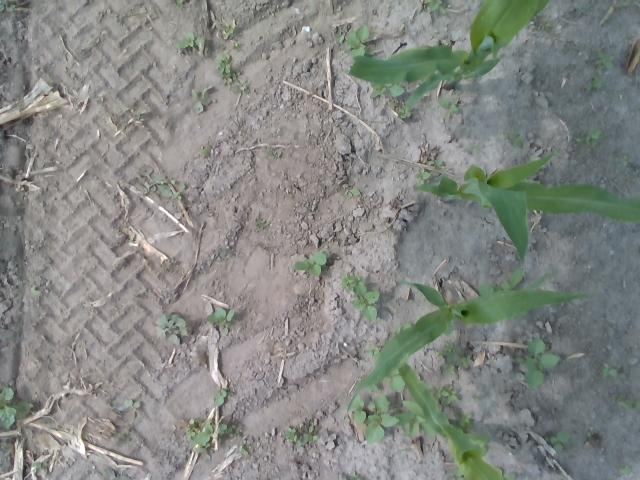Maize: (344, 272, 597, 423), (410, 148, 636, 260), (348, 0, 552, 111), (399, 360, 508, 480)
Weeds: (349, 394, 398, 445), (514, 337, 560, 390), (185, 418, 240, 454), (394, 398, 441, 438), (342, 273, 379, 322), (138, 163, 186, 200), (214, 52, 250, 93), (476, 268, 525, 297), (336, 23, 374, 58), (0, 387, 32, 428), (154, 310, 188, 346), (436, 342, 472, 374), (203, 307, 236, 336), (292, 250, 326, 276), (283, 423, 318, 446), (415, 159, 447, 184), (379, 366, 406, 393), (425, 384, 459, 404), (574, 126, 604, 148), (369, 81, 405, 99), (449, 410, 476, 434), (190, 84, 210, 114), (545, 430, 570, 453), (436, 96, 459, 120), (176, 31, 204, 50), (614, 393, 640, 410), (594, 51, 614, 71), (103, 467, 130, 480), (364, 344, 382, 363), (504, 131, 524, 148), (494, 466, 516, 480), (425, 0, 446, 14), (212, 388, 228, 406), (0, 0, 20, 14), (391, 324, 412, 336), (539, 16, 554, 32), (601, 363, 617, 378), (445, 466, 462, 480), (586, 76, 602, 90), (222, 21, 235, 36), (344, 187, 361, 198), (397, 106, 411, 119), (615, 0, 633, 9), (124, 398, 140, 408), (239, 440, 249, 456), (341, 473, 361, 480), (619, 464, 632, 474), (265, 149, 278, 159), (368, 382, 380, 392), (620, 154, 628, 167), (389, 100, 402, 108), (200, 146, 210, 156), (626, 175, 636, 185), (470, 394, 480, 403), (232, 40, 241, 50), (32, 461, 42, 469), (30, 286, 40, 294), (94, 96, 105, 102), (586, 428, 594, 436), (256, 220, 264, 228), (220, 250, 227, 258), (174, 0, 184, 5), (165, 259, 174, 264)
